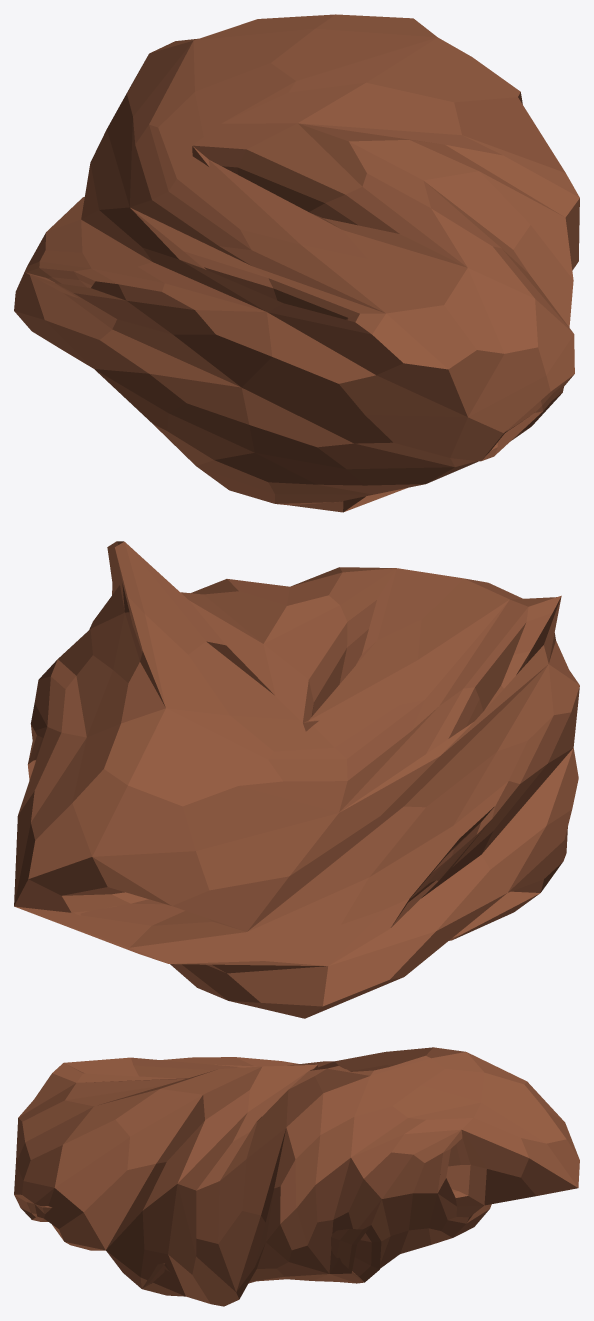
The model's file is Asteroid.009.glb.
The picture shows the model from 3 angles, top to bottom: view 1: azimuth 30°, elevation 25°; view 2: azimuth 150°, elevation 25°; view 3: azimuth 270°, elevation 25°; orthographic projection. The views are drawn at different scales.
Visible parts, largest first — view 1: Asteroid.009; view 2: Asteroid.009; view 3: Asteroid.009.
Part boxes in pixels (x1,y1,x2,y2): Asteroid.009: [14, 14, 579, 512]; Asteroid.009: [14, 541, 579, 1018]; Asteroid.009: [14, 1047, 579, 1306].
Size of the model in its own units: 7.64 by 6.51 by 11.71.
1 material, 1 textured.
